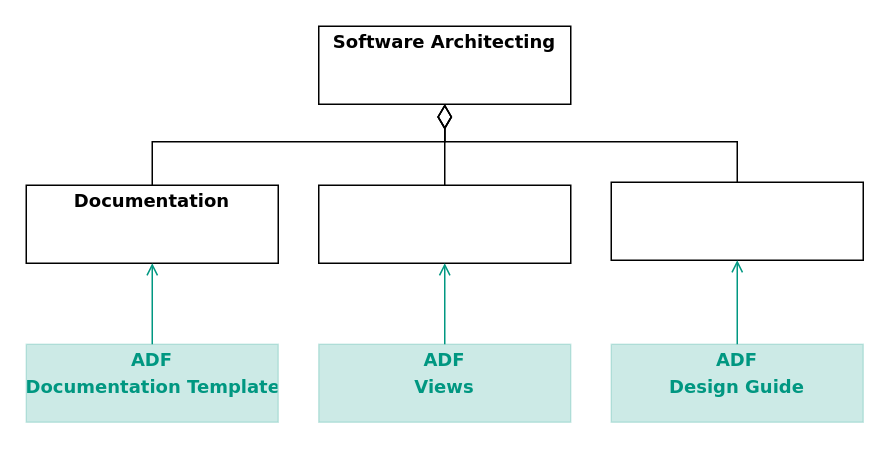
This 890x449 diagram has some shape labels left out. The centre of each missing label's shape, as x and y in pixels:
Design: (x=736, y=220)
Modeling/ Visualization: (x=444, y=223)
